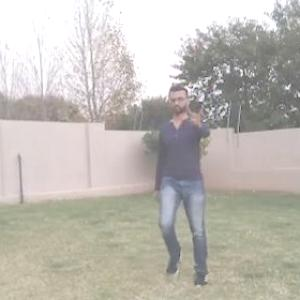takeoff-hand: (182, 96, 211, 132)
